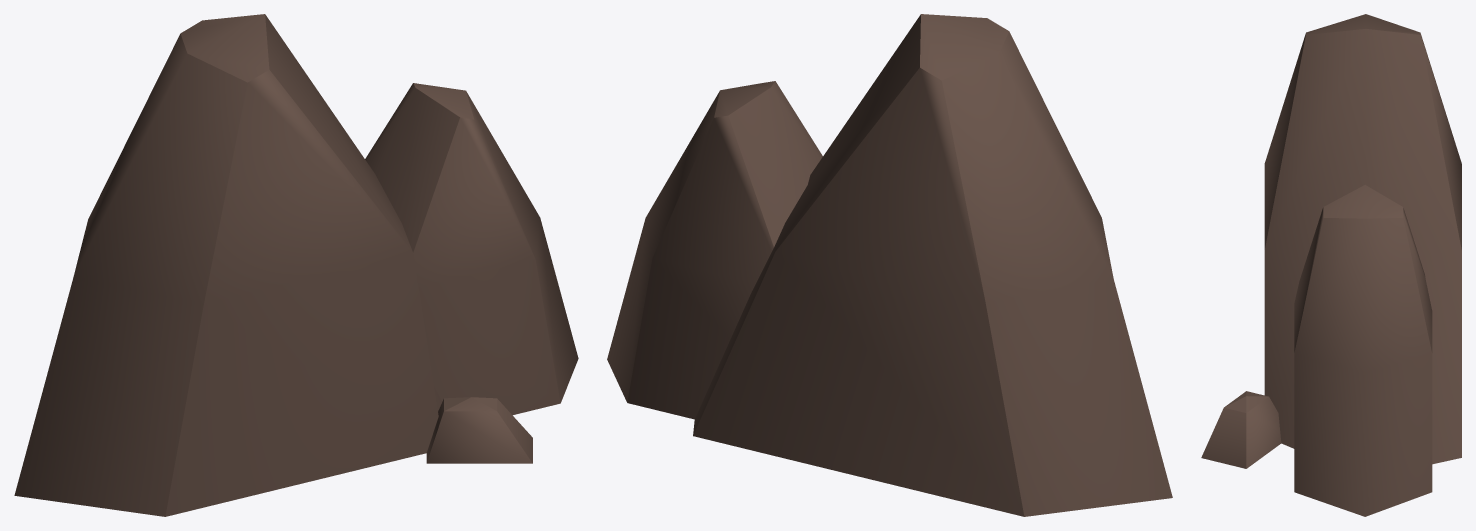
The model's file is SM_Stone_02.fbx.
3 views of the same model, side by side, from view 1: azimuth 30°, elevation 25°; view 2: azimuth 150°, elevation 25°; view 3: azimuth 270°, elevation 25° (orthographic). The views are drawn at different scales.
Parts seen in each view (by area): view 1: SM_Stone_02; view 2: SM_Stone_02; view 3: SM_Stone_02.
Part boxes in pixels (x1=…): SM_Stone_02: x1=14, y1=14, x2=578, y2=516; SM_Stone_02: x1=607, y1=14, x2=1172, y2=516; SM_Stone_02: x1=1201, y1=14, x2=1461, y2=516.
Size of the model in its own units: 1.35 by 0.9618 by 0.6345.
